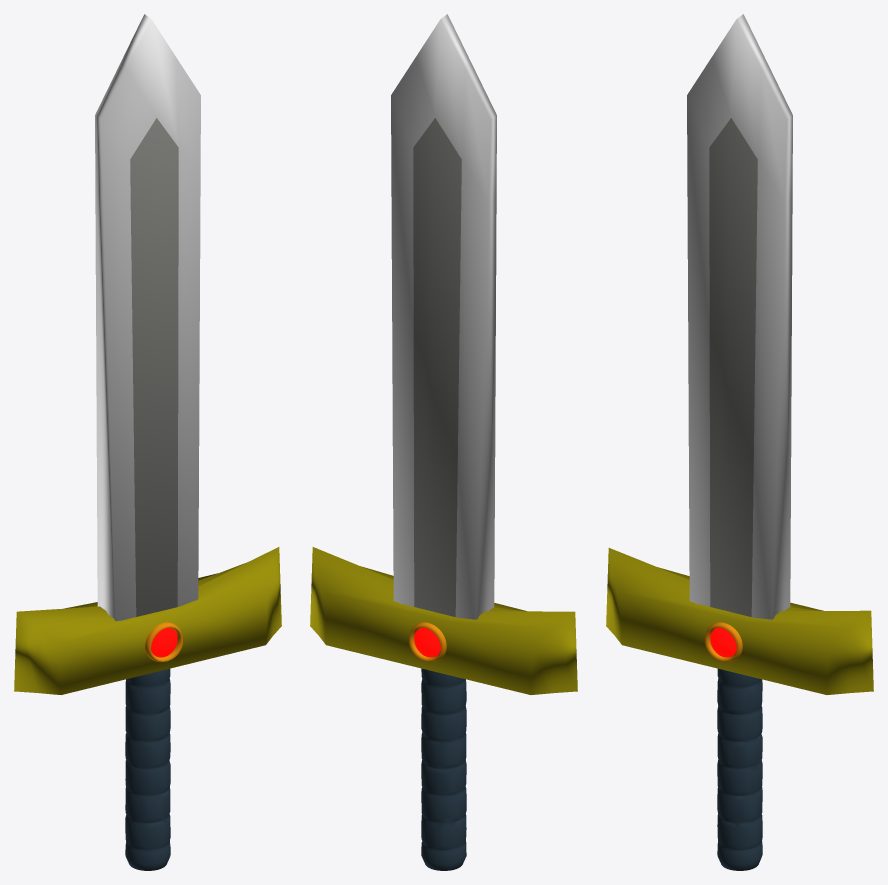
The model's file is Sword.fbx.
3 renders of one model, left to right at view 1: azimuth 30°, elevation 25°; view 2: azimuth 150°, elevation 25°; view 3: azimuth 330°, elevation 25°, orthographic.
Visible parts, largest first — view 1: Cube.001, Cube, Cylinder, Torus, Sphere; view 2: Cube.001, Cube, Cylinder, Torus, Sphere; view 3: Cube.001, Cube, Cylinder, Torus, Sphere.
Part boxes in pixels (bbox=[...]): Cube.001: bbox=[95, 14, 200, 621]; Cube: bbox=[14, 547, 281, 694]; Cylinder: bbox=[125, 668, 170, 870]; Torus: bbox=[145, 622, 182, 661]; Sphere: bbox=[151, 627, 177, 657]; Cube.001: bbox=[391, 14, 496, 619]; Cube: bbox=[310, 547, 577, 694]; Cylinder: bbox=[421, 668, 466, 870]; Torus: bbox=[409, 622, 446, 661]; Sphere: bbox=[414, 627, 440, 657]; Cube.001: bbox=[687, 14, 792, 619]; Cube: bbox=[606, 548, 873, 694]; Cylinder: bbox=[717, 668, 762, 870]; Torus: bbox=[705, 622, 742, 661]; Sphere: bbox=[710, 627, 736, 657].
Size of the model in its own units: 1.72 by 5.21 by 0.4454.
